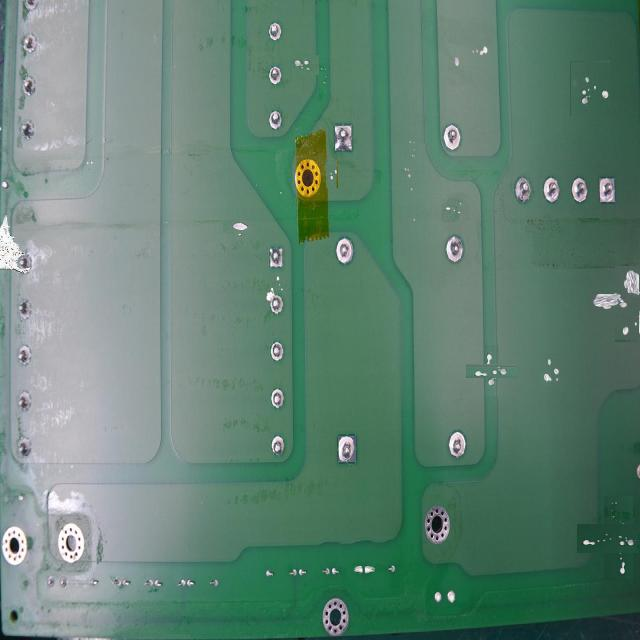spillover: (590, 510, 640, 566), (570, 61, 610, 116), (602, 279, 640, 329), (449, 36, 491, 75), (475, 354, 508, 387), (540, 353, 563, 388), (289, 51, 316, 79), (444, 201, 467, 224), (227, 216, 251, 238), (326, 160, 338, 188)
